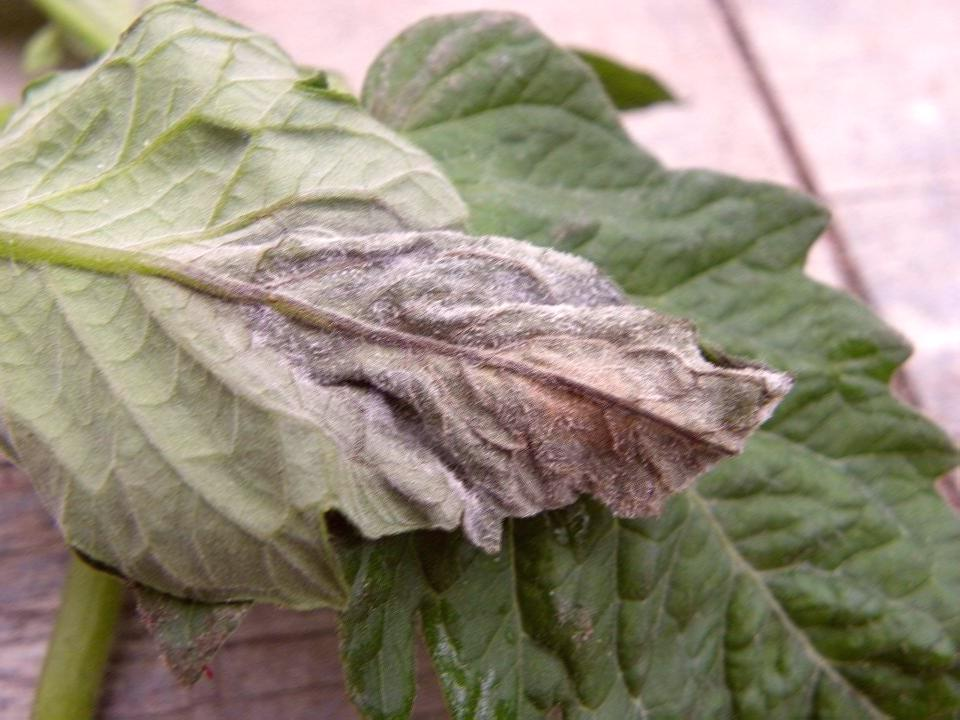Tomato leaf late blight: (6, 17, 807, 613)
